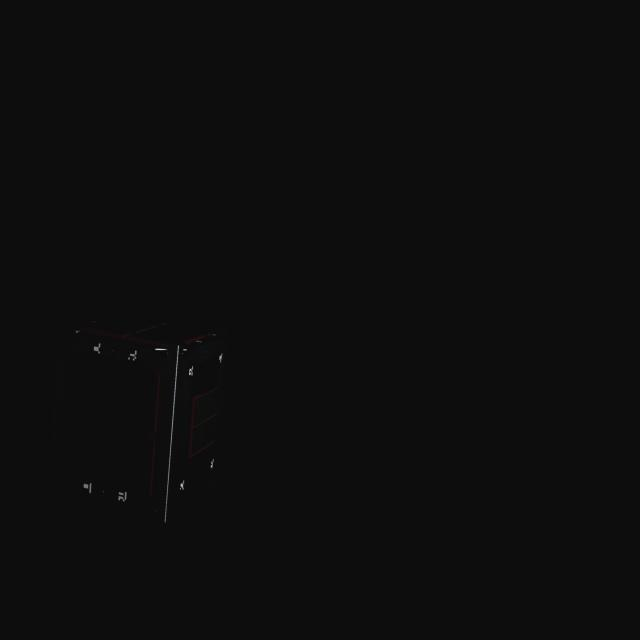medium_debris: (70, 270, 228, 546)
